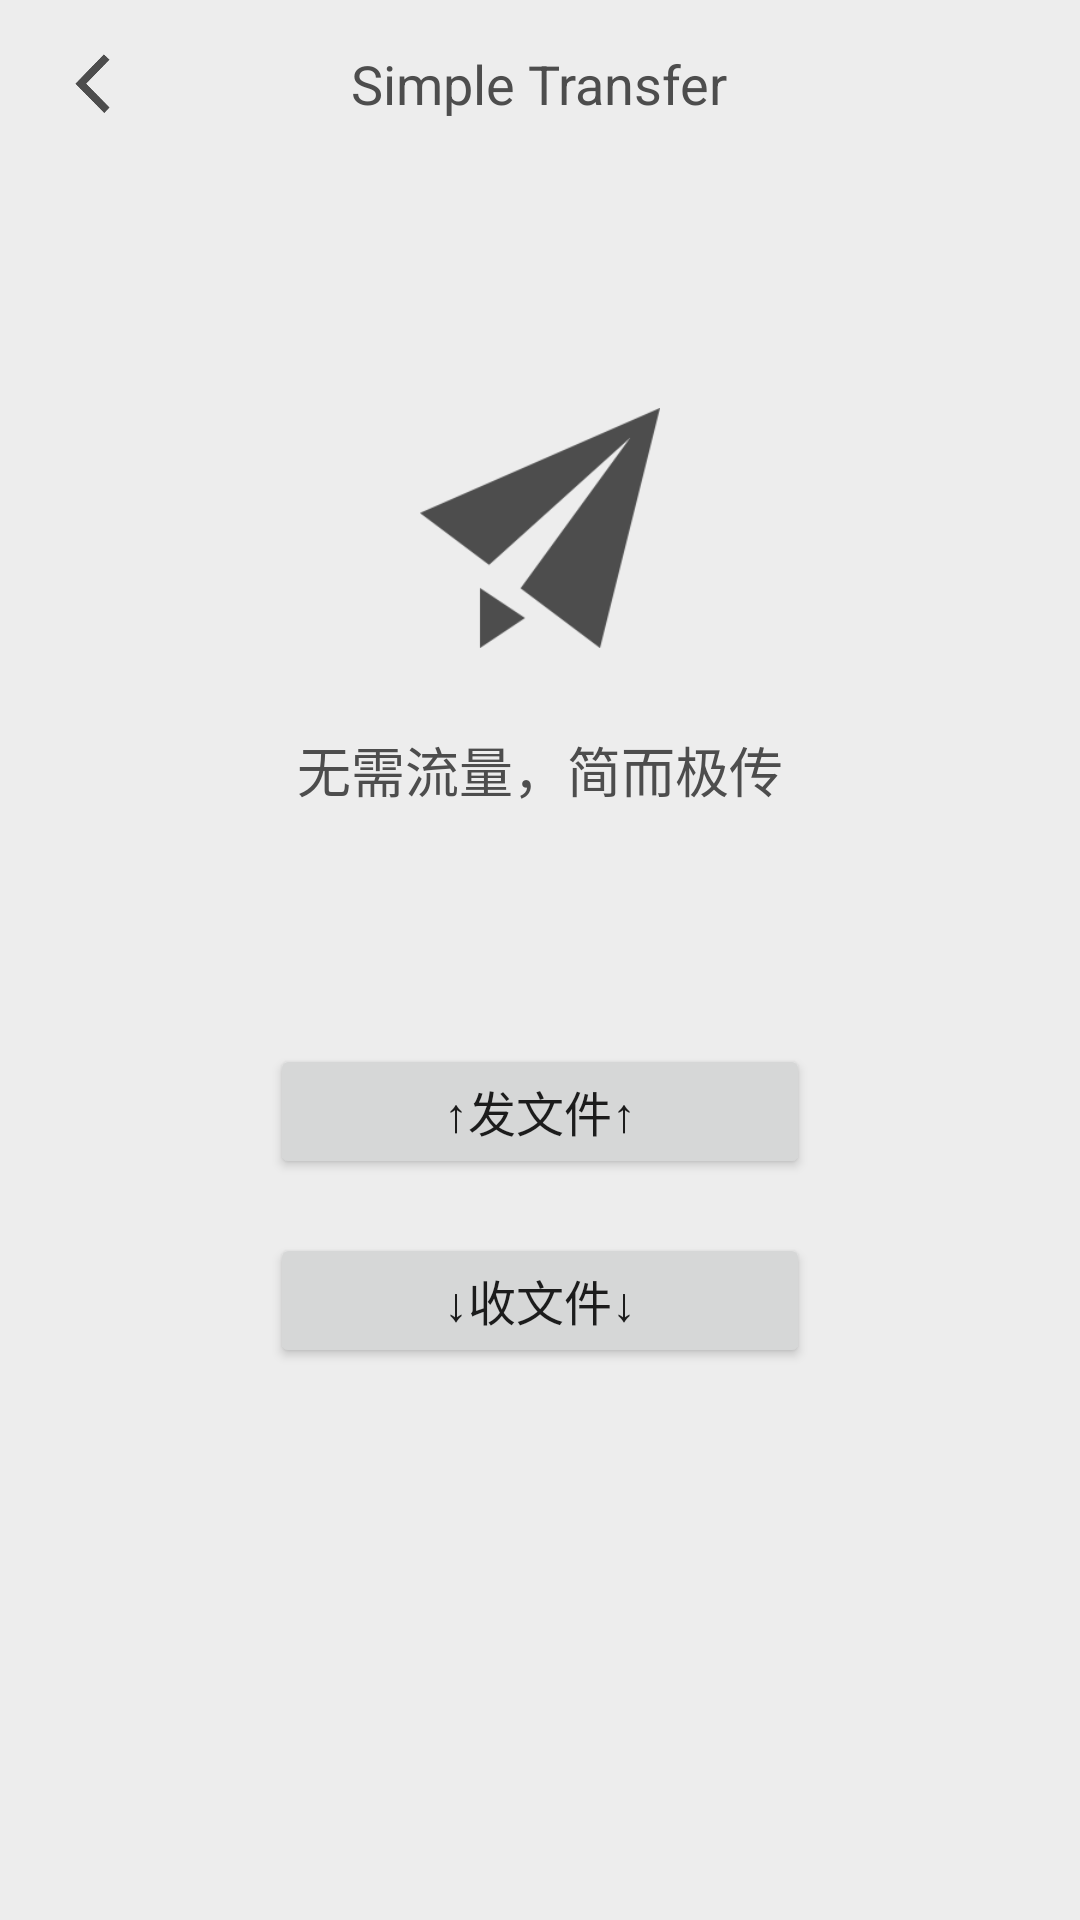

Locate icon controls on the screen. Image size 1080px x 1920px, boxes as (x1, y1, x2, y2).
back: (75, 54, 110, 113)
transfor: (420, 408, 660, 648)
